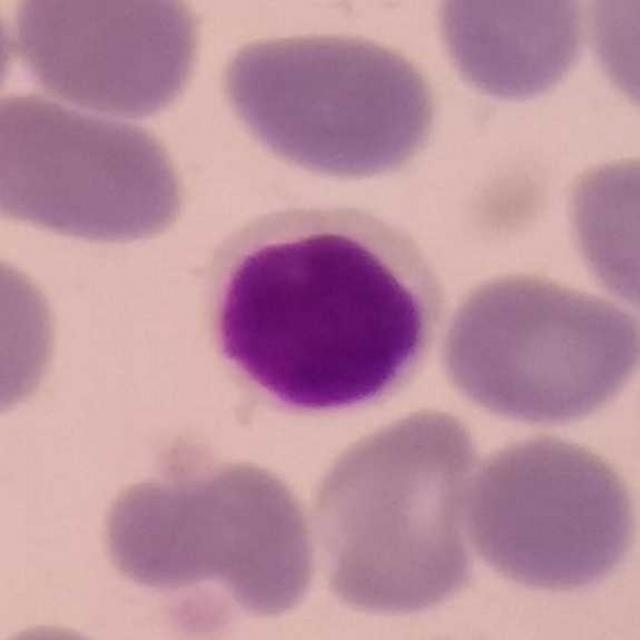RBC: (199, 216, 445, 423), (96, 450, 325, 634), (302, 403, 492, 621), (212, 21, 448, 188), (433, 265, 640, 432), (0, 87, 195, 250), (457, 427, 640, 599), (6, 0, 210, 122), (428, 0, 592, 108), (557, 146, 640, 319), (0, 240, 67, 428), (579, 0, 640, 124), (0, 614, 139, 640)
